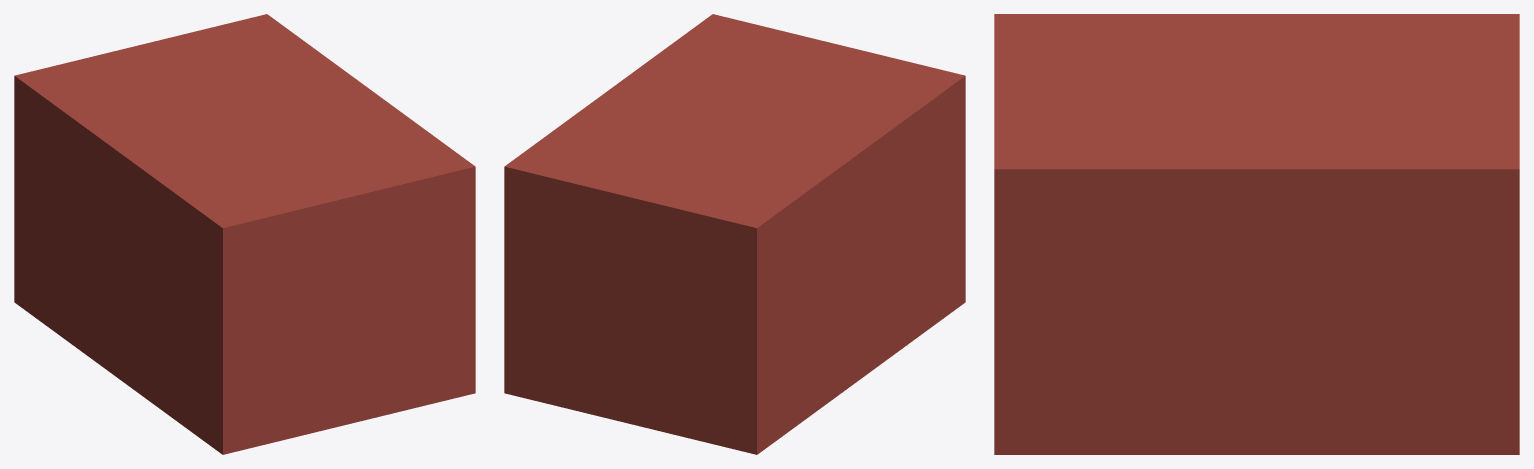
File: ammo-shotgun.e325a7a3.glb
3 views of the same model, side by side, from view 1: azimuth 30°, elevation 25°; view 2: azimuth 150°, elevation 25°; view 3: azimuth 270°, elevation 25° (orthographic). The views are drawn at different scales.
Visible parts, largest first — view 1: ammo-shotgun-box; view 2: ammo-shotgun-box; view 3: ammo-shotgun-box.
Boxes of the visible parts, x1,y1,x2,y2 form: ammo-shotgun-box: (14, 14, 475, 454); ammo-shotgun-box: (504, 14, 965, 454); ammo-shotgun-box: (994, 14, 1519, 454).
Size of the model in its own units: 0.07 by 0.06 by 0.1.
